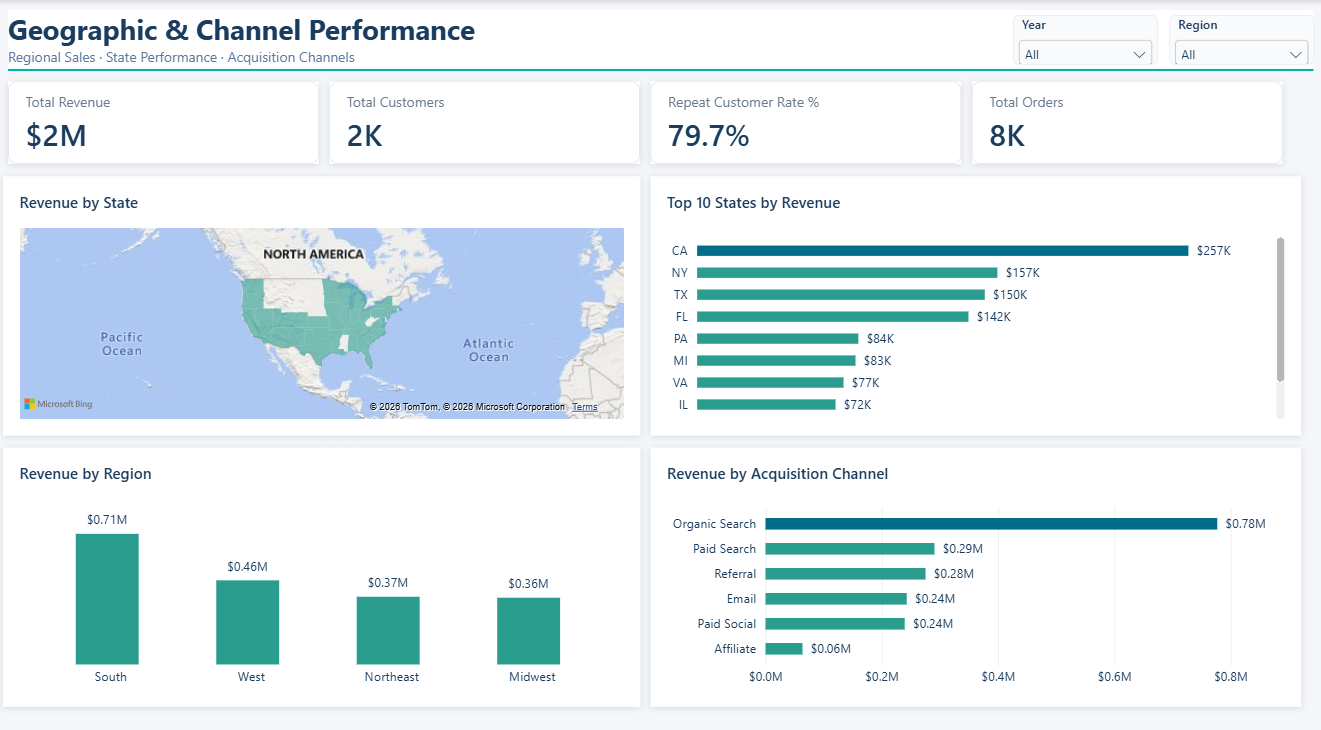

What the dashboard file says about the page in this screenshot:
{"tool":"powerbi","page":{"name":"Geographic & Channel Performance","canvas":[1280,720],"ordinal":3},"visuals":[{"type":"textbox","box":[10,10,1260,58],"z":0},{"type":"shape","box":[9.7,61.5,1260,12],"z":1000},{"type":"slicer","fields":{"Values":["DimDate.Year"]},"box":[980,14,140,48],"z":2000},{"type":"slicer","fields":{"Values":["DimCustomer.Region"]},"box":[1130,14,140,48],"z":3000},{"type":"cardVisual","fields":{"Data":["_Measures.Total Customers"]},"box":[320,78,300,80],"z":4000},{"type":"cardVisual","fields":{"Data":["_Measures.Total Revenue"]},"box":[10,78,300,80],"z":5000},{"type":"cardVisual","fields":{"Data":["_Measures.Repeat Customer Rate %"]},"box":[630,78,300,80],"z":6000},{"type":"cardVisual","fields":{"Data":["_Measures.Total Orders"]},"box":[940,78,300,80],"z":7000},{"type":"filledMap","title":"Revenue by State","fields":{"Category":["DimCustomer.State"]},"box":[5,170,615,250],"z":8000},{"type":"clusteredBarChart","title":"Top 10 States by Revenue","fields":{"Category":["DimCustomer.State"],"Y":["_Measures.Total Revenue"]},"box":[630,170,628,250],"z":9000},{"type":"clusteredColumnChart","title":"Revenue by Region","fields":{"Category":["DimCustomer.Region"],"Y":["_Measures.Total Revenue"]},"box":[5,432,615,250],"z":10000},{"type":"clusteredBarChart","title":"Revenue by Acquisition Channel","fields":{"Category":["DimCustomer.AcquisitionChannel"],"Y":["_Measures.Total Revenue"]},"box":[630,432,628,250],"z":11000}]}

Visuals, with their boxes in screenshot pixels (x1, y1, x2, y2), scaled from the page's 1280x720 canvas onto the 1321x730 screenshot:
textbox: x1=10, y1=10, x2=1311, y2=69
shape: x1=10, y1=62, x2=1310, y2=75
slicer - DimDate.Year: x1=1011, y1=14, x2=1156, y2=63
slicer - DimCustomer.Region: x1=1166, y1=14, x2=1311, y2=63
cardVisual - _Measures.Total Customers: x1=330, y1=79, x2=640, y2=160
cardVisual - _Measures.Total Revenue: x1=10, y1=79, x2=320, y2=160
cardVisual - _Measures.Repeat Customer Rate %: x1=650, y1=79, x2=960, y2=160
cardVisual - _Measures.Total Orders: x1=970, y1=79, x2=1280, y2=160
"Revenue by State" filledMap: x1=5, y1=172, x2=640, y2=426
"Top 10 States by Revenue" clusteredBarChart: x1=650, y1=172, x2=1298, y2=426
"Revenue by Region" clusteredColumnChart: x1=5, y1=438, x2=640, y2=691
"Revenue by Acquisition Channel" clusteredBarChart: x1=650, y1=438, x2=1298, y2=691
